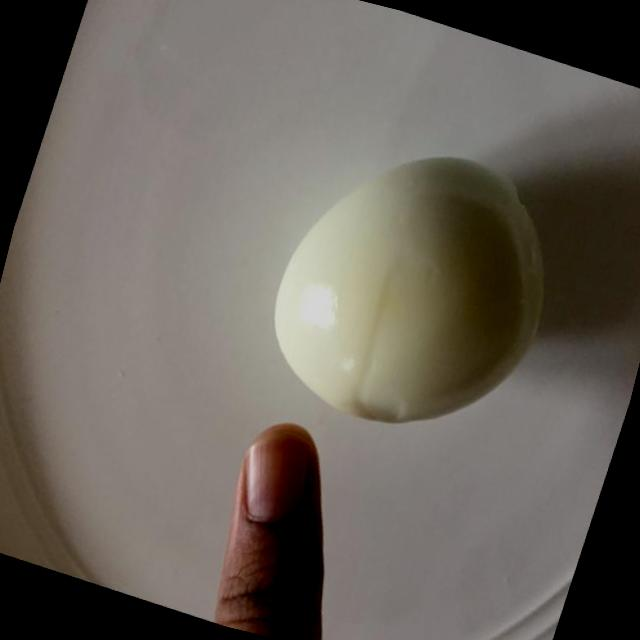Egg: (230, 97, 595, 482)
Finger: (187, 401, 359, 640)
